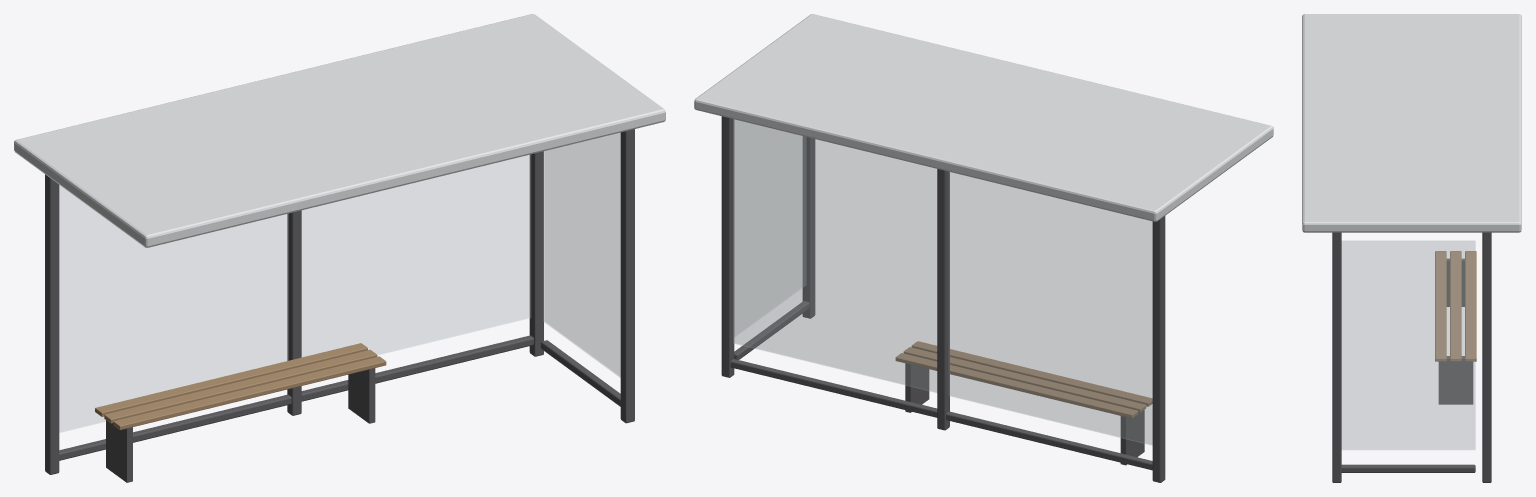
Rendered from bus_shelter.glb.
3 views of the same model, side by side, from view 1: azimuth 30°, elevation 25°; view 2: azimuth 150°, elevation 25°; view 3: azimuth 270°, elevation 25° (orthographic). The views are drawn at different scales.
Parts seen in each view (by area): view 1: Glass, Canopy, Frame, BenchSlats, BenchLegs; view 2: Glass, Canopy, Frame, BenchSlats, BenchLegs; view 3: Canopy, Glass, Frame, BenchSlats, BenchLegs.
Boxes of the visible parts, x1,y1,x2,y2 form: Glass: (59, 133, 620, 432); Canopy: (14, 14, 665, 247); Frame: (45, 129, 634, 474); BenchSlats: (95, 343, 386, 430); BenchLegs: (106, 368, 375, 482); Glass: (733, 119, 1152, 445); Canopy: (694, 14, 1273, 221); Frame: (721, 116, 1165, 482); BenchSlats: (895, 341, 1152, 418); BenchLegs: (905, 363, 1144, 465); Canopy: (1302, 14, 1521, 232); Glass: (1342, 240, 1475, 449); Frame: (1332, 232, 1491, 482); BenchSlats: (1435, 251, 1476, 361); BenchLegs: (1438, 258, 1473, 404).
Bounding box in the file's own units: 4.3 × 2.54 × 1.9.
